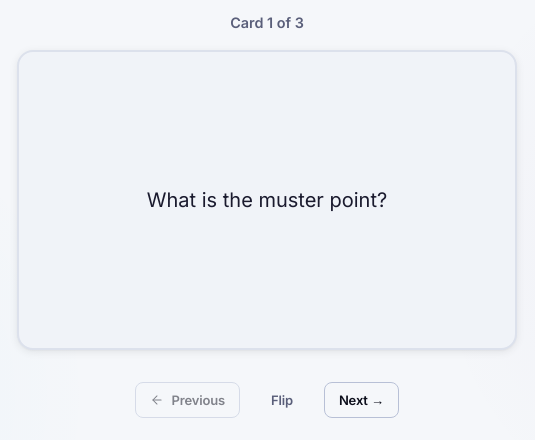
Test: moving through it › cannot go forward from the last card
The width and height of the screenshot is (535, 440).
Click the button "Next →": (361, 400) [324,382,399,418]
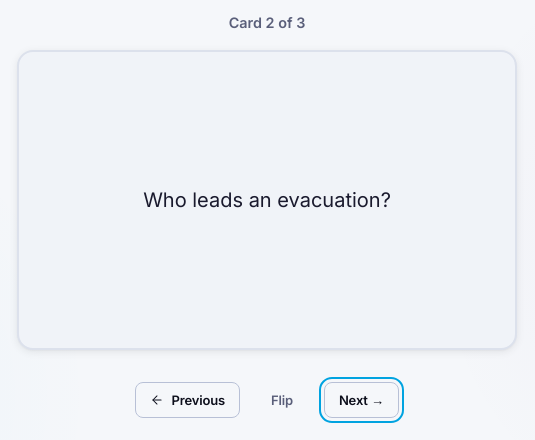
Click the button "Next →": (361, 400) [324,382,399,418]
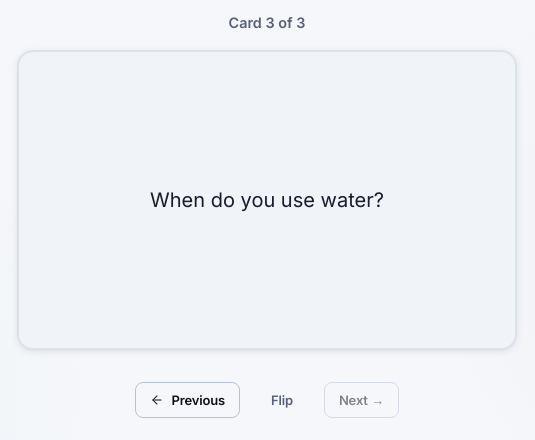
Expected: the button "Next →" is disabled, [324,382,399,418]
Expected: the text "When do you use water?" is shown
